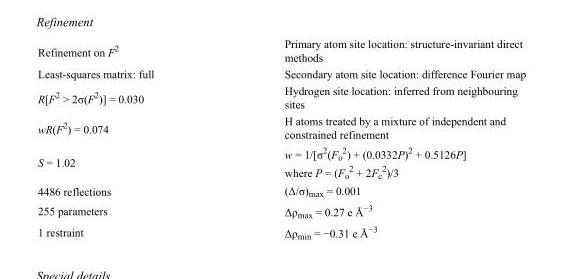table: (37, 36, 525, 240)
table column: (218, 36, 525, 240), (37, 36, 218, 240)
table row: (37, 142, 525, 181), (37, 81, 525, 112), (37, 112, 525, 142), (37, 36, 525, 65), (37, 200, 525, 221), (37, 181, 525, 200), (37, 221, 525, 240), (37, 65, 525, 81)
